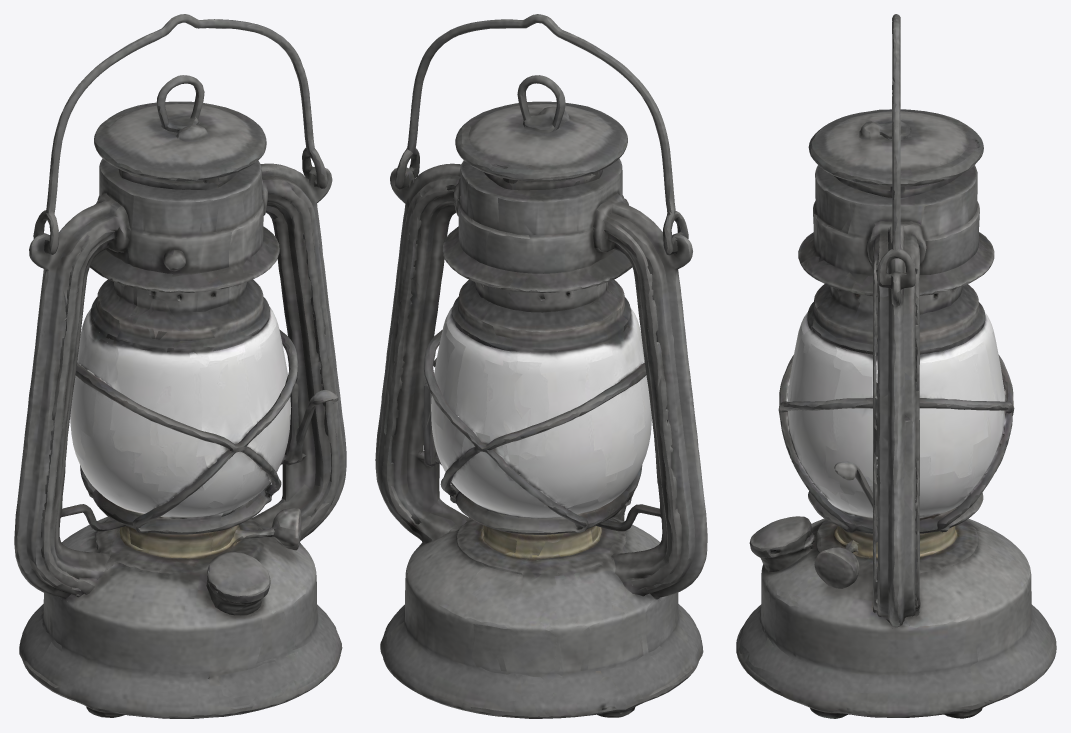
Rendered from parts.glb.
3 renders of one model, left to right at view 1: azimuth 30°, elevation 25°; view 2: azimuth 150°, elevation 25°; view 3: azimuth 270°, elevation 25°, orthographic.
Size of the model in its own units: 0.171 by 0.32 by 0.1456.
Materials: 8 (8 with a texture image).
